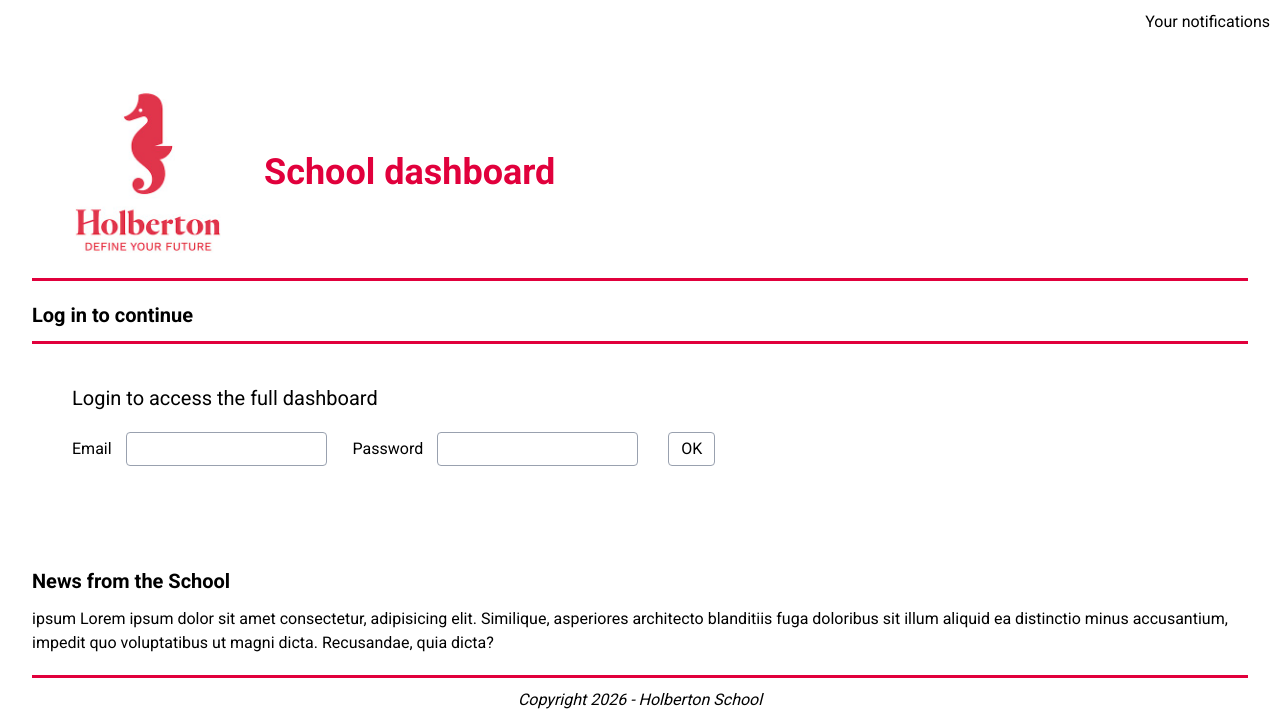
Scenario: App component › displayDrawer state and handlers › clicking on Your notifications opens the drawer
The width and height of the screenshot is (1280, 720).
Click the text "Your notifications": (1208, 22) [1145,10,1270,34]
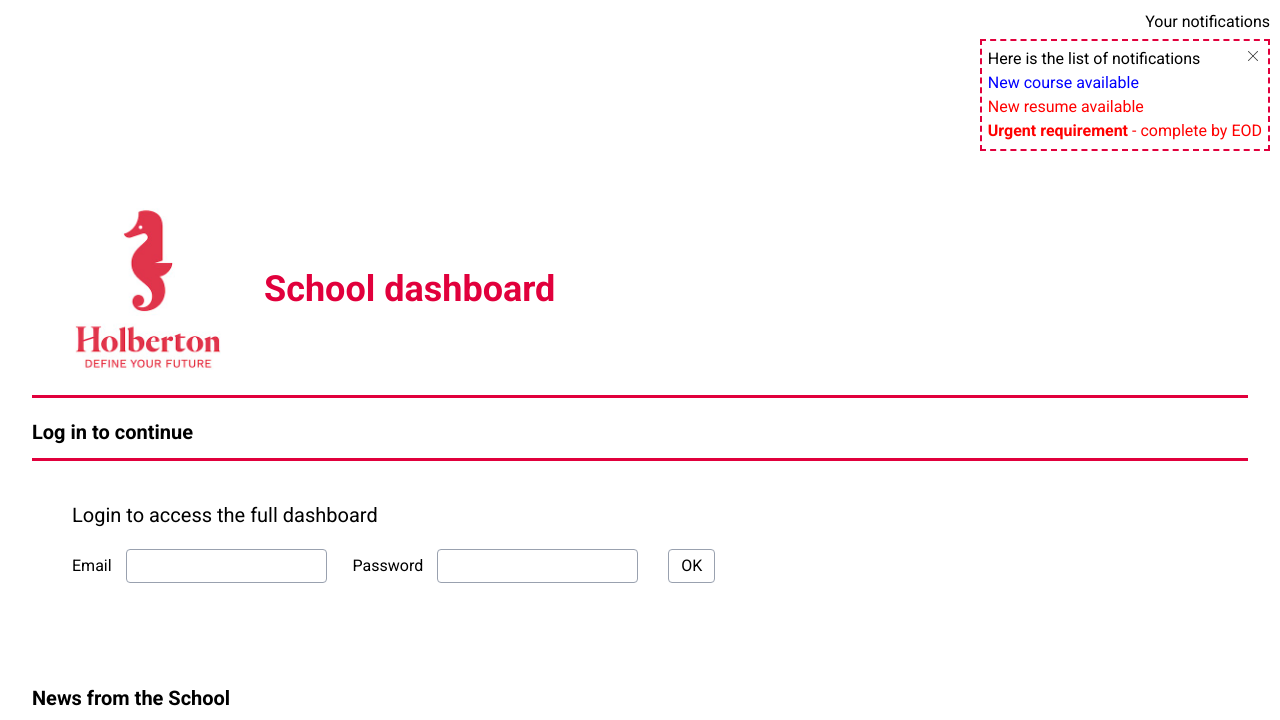
Expected: the element with class "notification-items" is shown, [980,39,1270,151]
